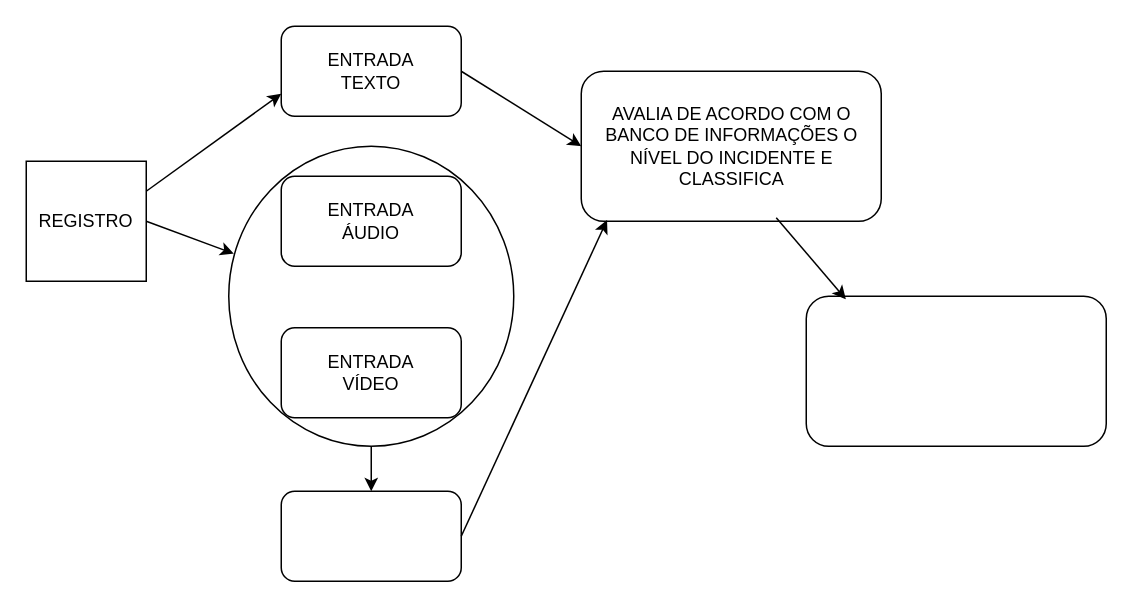
This 1133x608 diagram has some shape labels left out. Here are the shapes that lost their labels. From the top down, the centre of each, then its label:
At pixel 955 370: "MOSTRA ATRAVÉS DE GRÁFICO OS REGISTROS DE ACORDO COM A CLASSIFICAÇÃO".
At pixel 370 535: "CONVERTE A INFORMAÇÃO PARA TEXTO".
